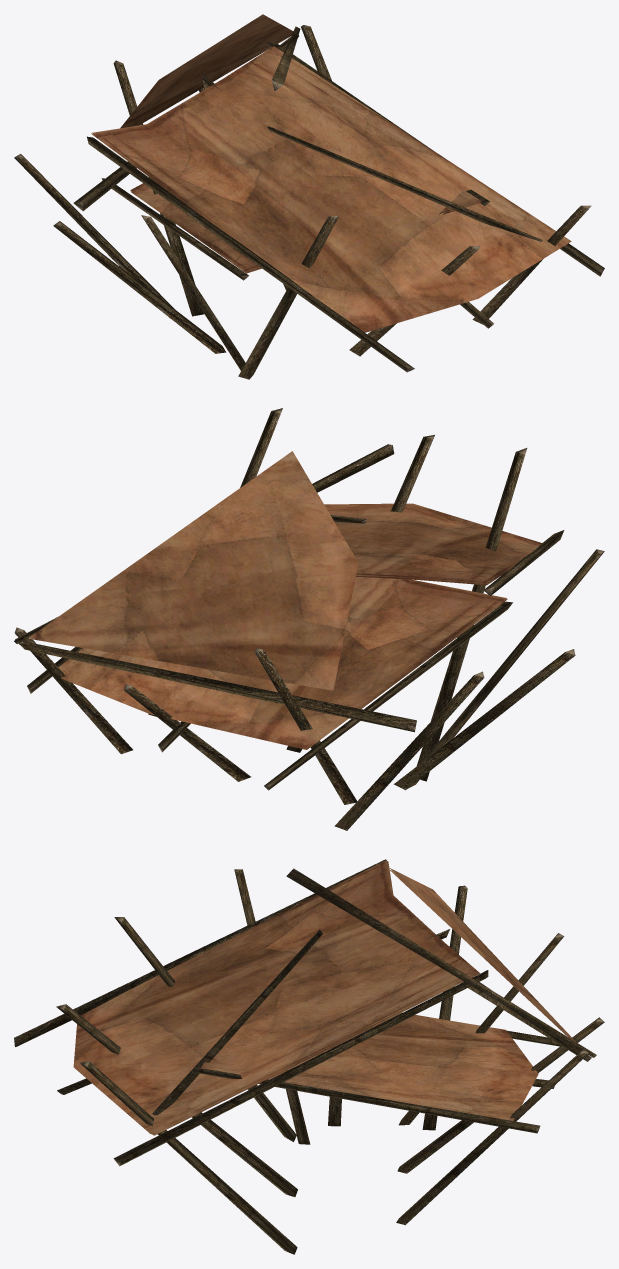
The model's file is poi_all_lair_wooden_destroyed_l2.fbx.
3 renders of one model, top to bottom at view 1: azimuth 30°, elevation 25°; view 2: azimuth 150°, elevation 25°; view 3: azimuth 270°, elevation 25°, orthographic. The views are drawn at different scales.
Visible parts, largest first — view 1: mesh_node; view 2: mesh_node; view 3: mesh_node.
Part boxes in pixels (x1,y1,x2,y2): mesh_node: (14,14,604,379); mesh_node: (14,408,604,830); mesh_node: (14,859,604,1254).
Bounding box in the file's own units: 8.49 × 5.86 × 10.26.
